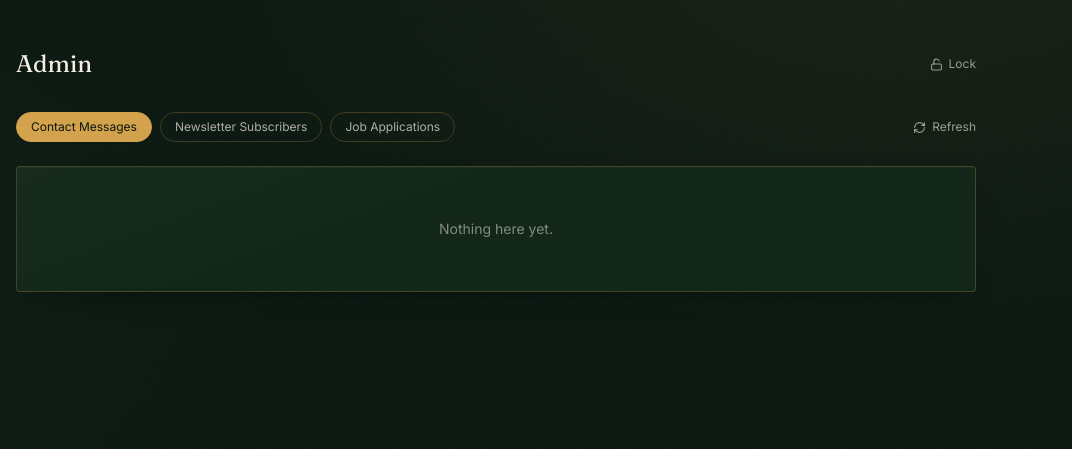
Admin › Lock clears the stored session and returns to the login screen
What coordinates should you click on to do the following:
click the button "Lock"
I would click on:
 (953, 64)
Its box is left=930, top=56, right=976, bottom=72.
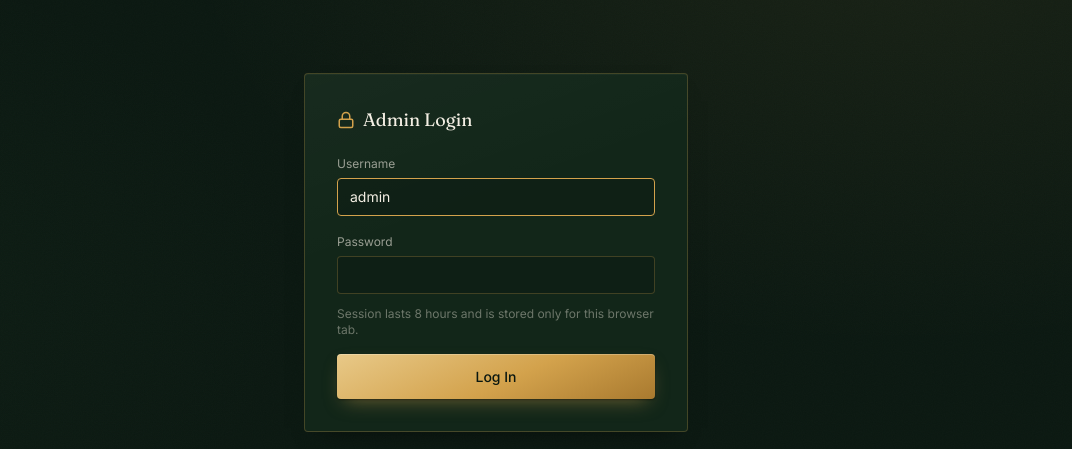
Check: the field labelled "Username" is shown, box left=337, top=178, right=655, bottom=216
